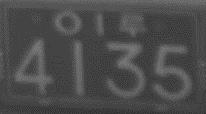0: (53, 8, 83, 36)
1: (62, 38, 95, 96), (87, 9, 111, 37)
3: (104, 40, 145, 99)
4: (14, 37, 54, 97)
5: (152, 43, 192, 101)
두: (119, 10, 147, 38)
